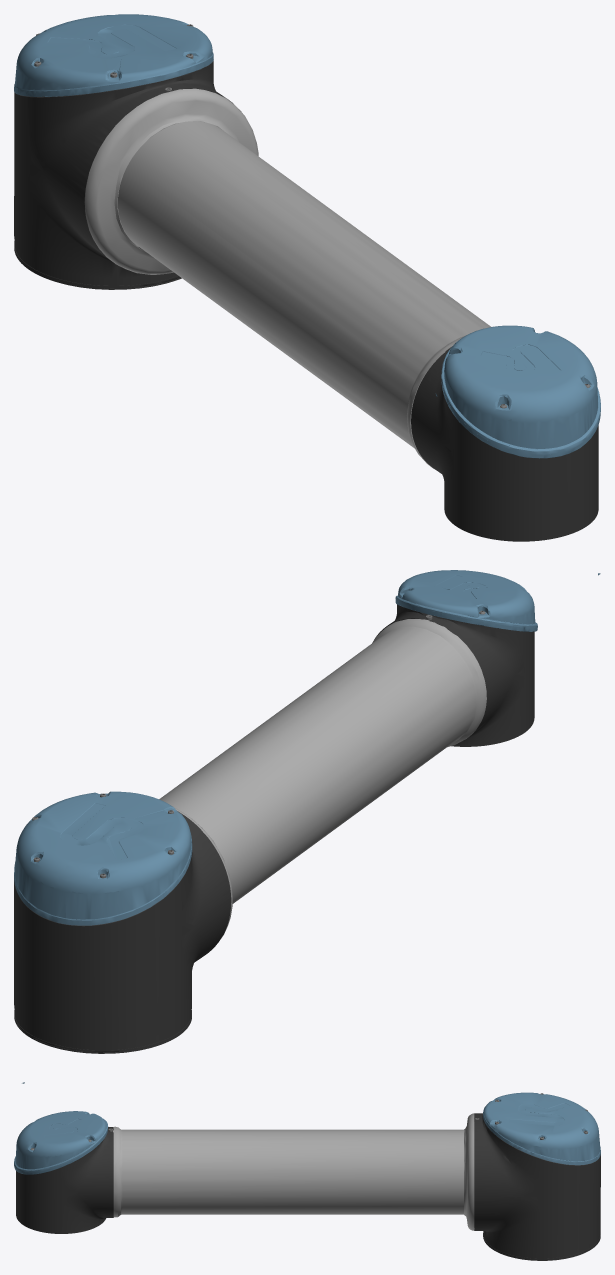
File: upperarm.obj
The picture shows the model from 3 angles, top to bottom: view 1: azimuth 30°, elevation 25°; view 2: azimuth 150°, elevation 25°; view 3: azimuth 270°, elevation 25°; orthographic projection. The views are drawn at different scales.
Visible parts, largest first — view 1: node-shape3-name, node-shape0-name, node-shape1-name; view 2: node-shape3-name, node-shape0-name, node-shape1-name; view 3: node-shape3-name, node-shape0-name, node-shape1-name.
Boxes of the visible parts, x1,y1,x2,y2 form: node-shape3-name: (84, 88, 490, 469); node-shape0-name: (14, 61, 598, 541); node-shape1-name: (14, 14, 600, 458); node-shape3-name: (159, 619, 486, 936); node-shape0-name: (14, 604, 534, 1053); node-shape1-name: (14, 570, 600, 925); node-shape3-name: (113, 1113, 474, 1230); node-shape0-name: (16, 1113, 600, 1260); node-shape1-name: (14, 1082, 600, 1174).
Size of the model in its own units: 0.1767 by 0.1772 by 0.7479.
